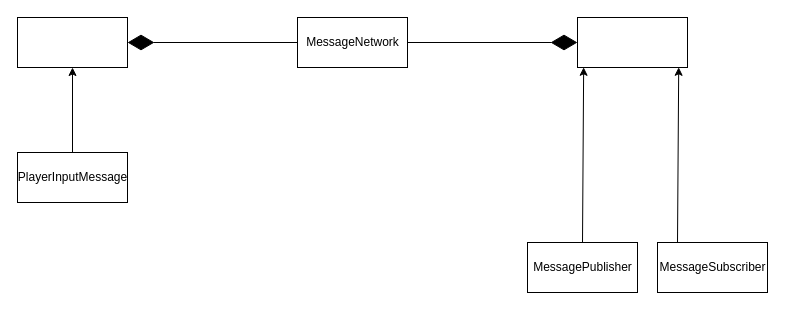
Some shapes in this 785 by 310 pixel diagram are drawn without their labels. Each missing label, with the centre of its shape:
Message: point 72,42
MessageNode: point 632,42
